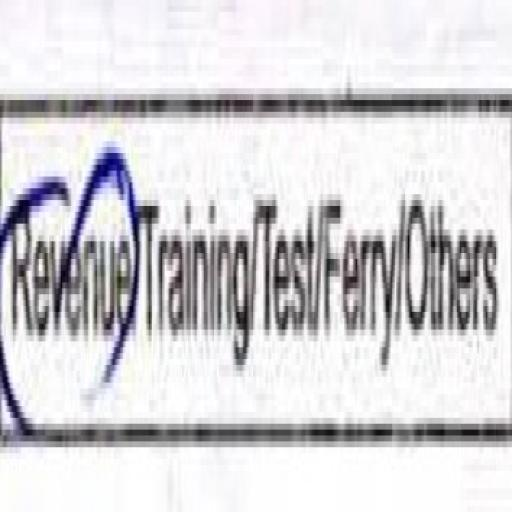check: (0, 40, 137, 488)
